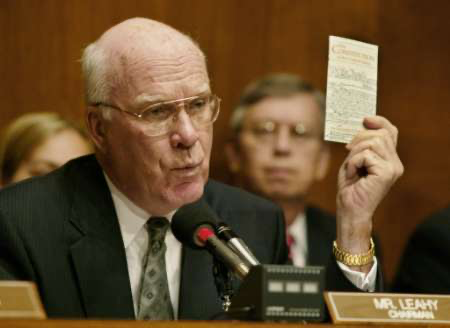Face: (106, 38, 215, 203), (237, 94, 323, 198)
